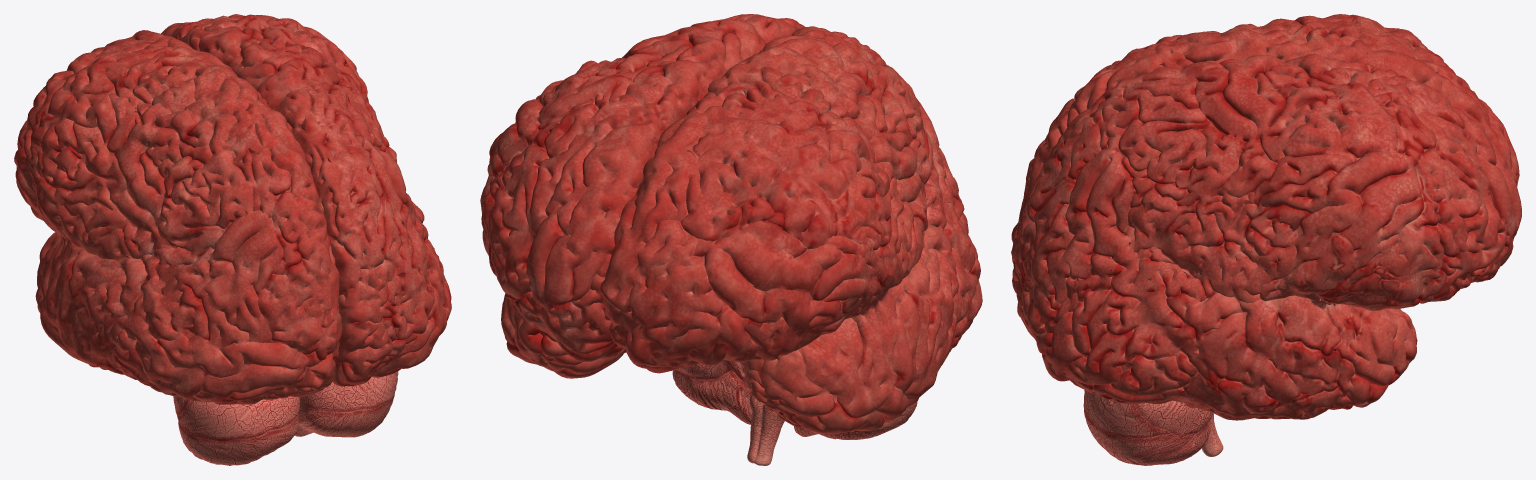
File: brain_realistic_free.glb
The picture shows the model from 3 angles, left to right: view 1: azimuth 30°, elevation 25°; view 2: azimuth 150°, elevation 25°; view 3: azimuth 270°, elevation 25°; orthographic projection. The views are drawn at different scales.
Visible parts, largest first — view 1: Lobe; view 2: Lobe; view 3: Lobe.
Boxes of the visible parts, x1=… form: Lobe: x1=14, y1=14, x2=451, y2=465; Lobe: x1=480, y1=14, x2=982, y2=465; Lobe: x1=1011, y1=14, x2=1521, y2=465.
Bounding box in the file's own units: 2.59 × 2.77 × 3.13.
3 materials, 3 textured.
